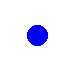circle: (27, 25, 47, 45)
